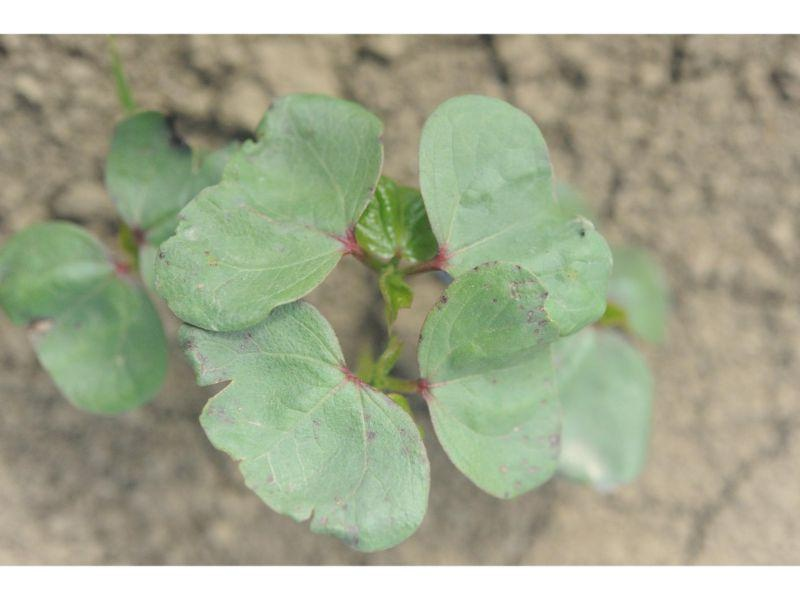cotton: (2, 96, 650, 549)
